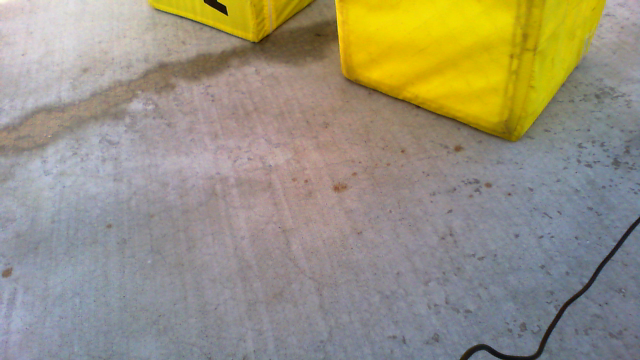cube: (336, 1, 608, 141)
